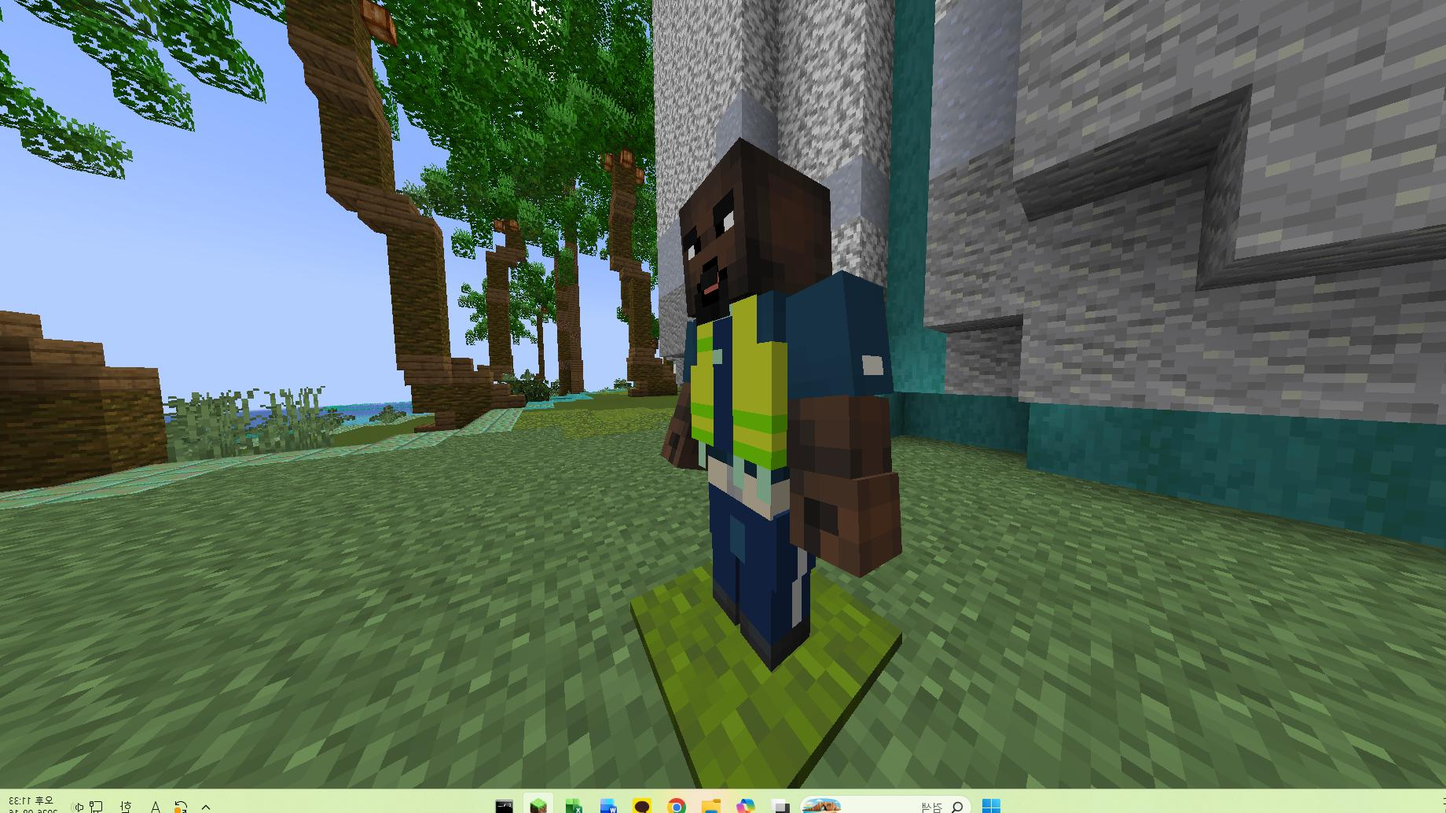Guardian: (662, 138, 901, 671)
